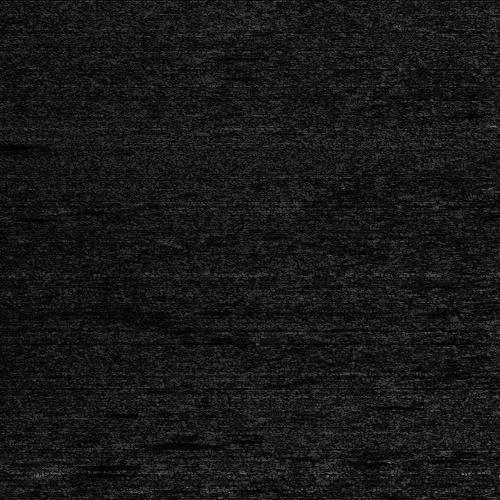rock: (110, 437, 173, 446), (7, 469, 70, 476), (453, 119, 500, 128), (40, 459, 81, 466)
shadow: (142, 437, 237, 446), (61, 459, 134, 466), (39, 469, 111, 476), (0, 141, 44, 148)
